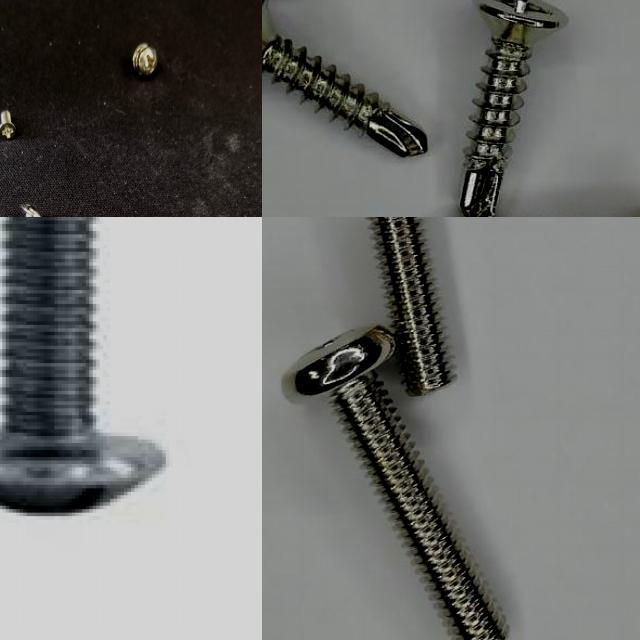Screw: (282, 327, 506, 640), (0, 217, 162, 516), (262, 0, 425, 157), (460, 0, 567, 217), (368, 217, 452, 395), (130, 41, 159, 82), (0, 106, 19, 143), (11, 200, 47, 217)
